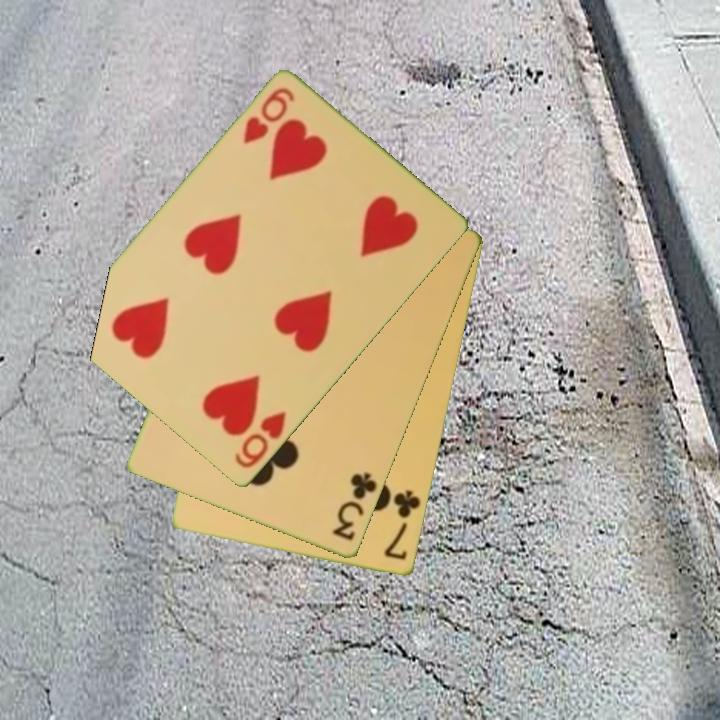3c: (329, 469, 381, 544)
6h: (231, 408, 290, 472), (239, 84, 298, 148)
7c: (381, 487, 424, 564)
